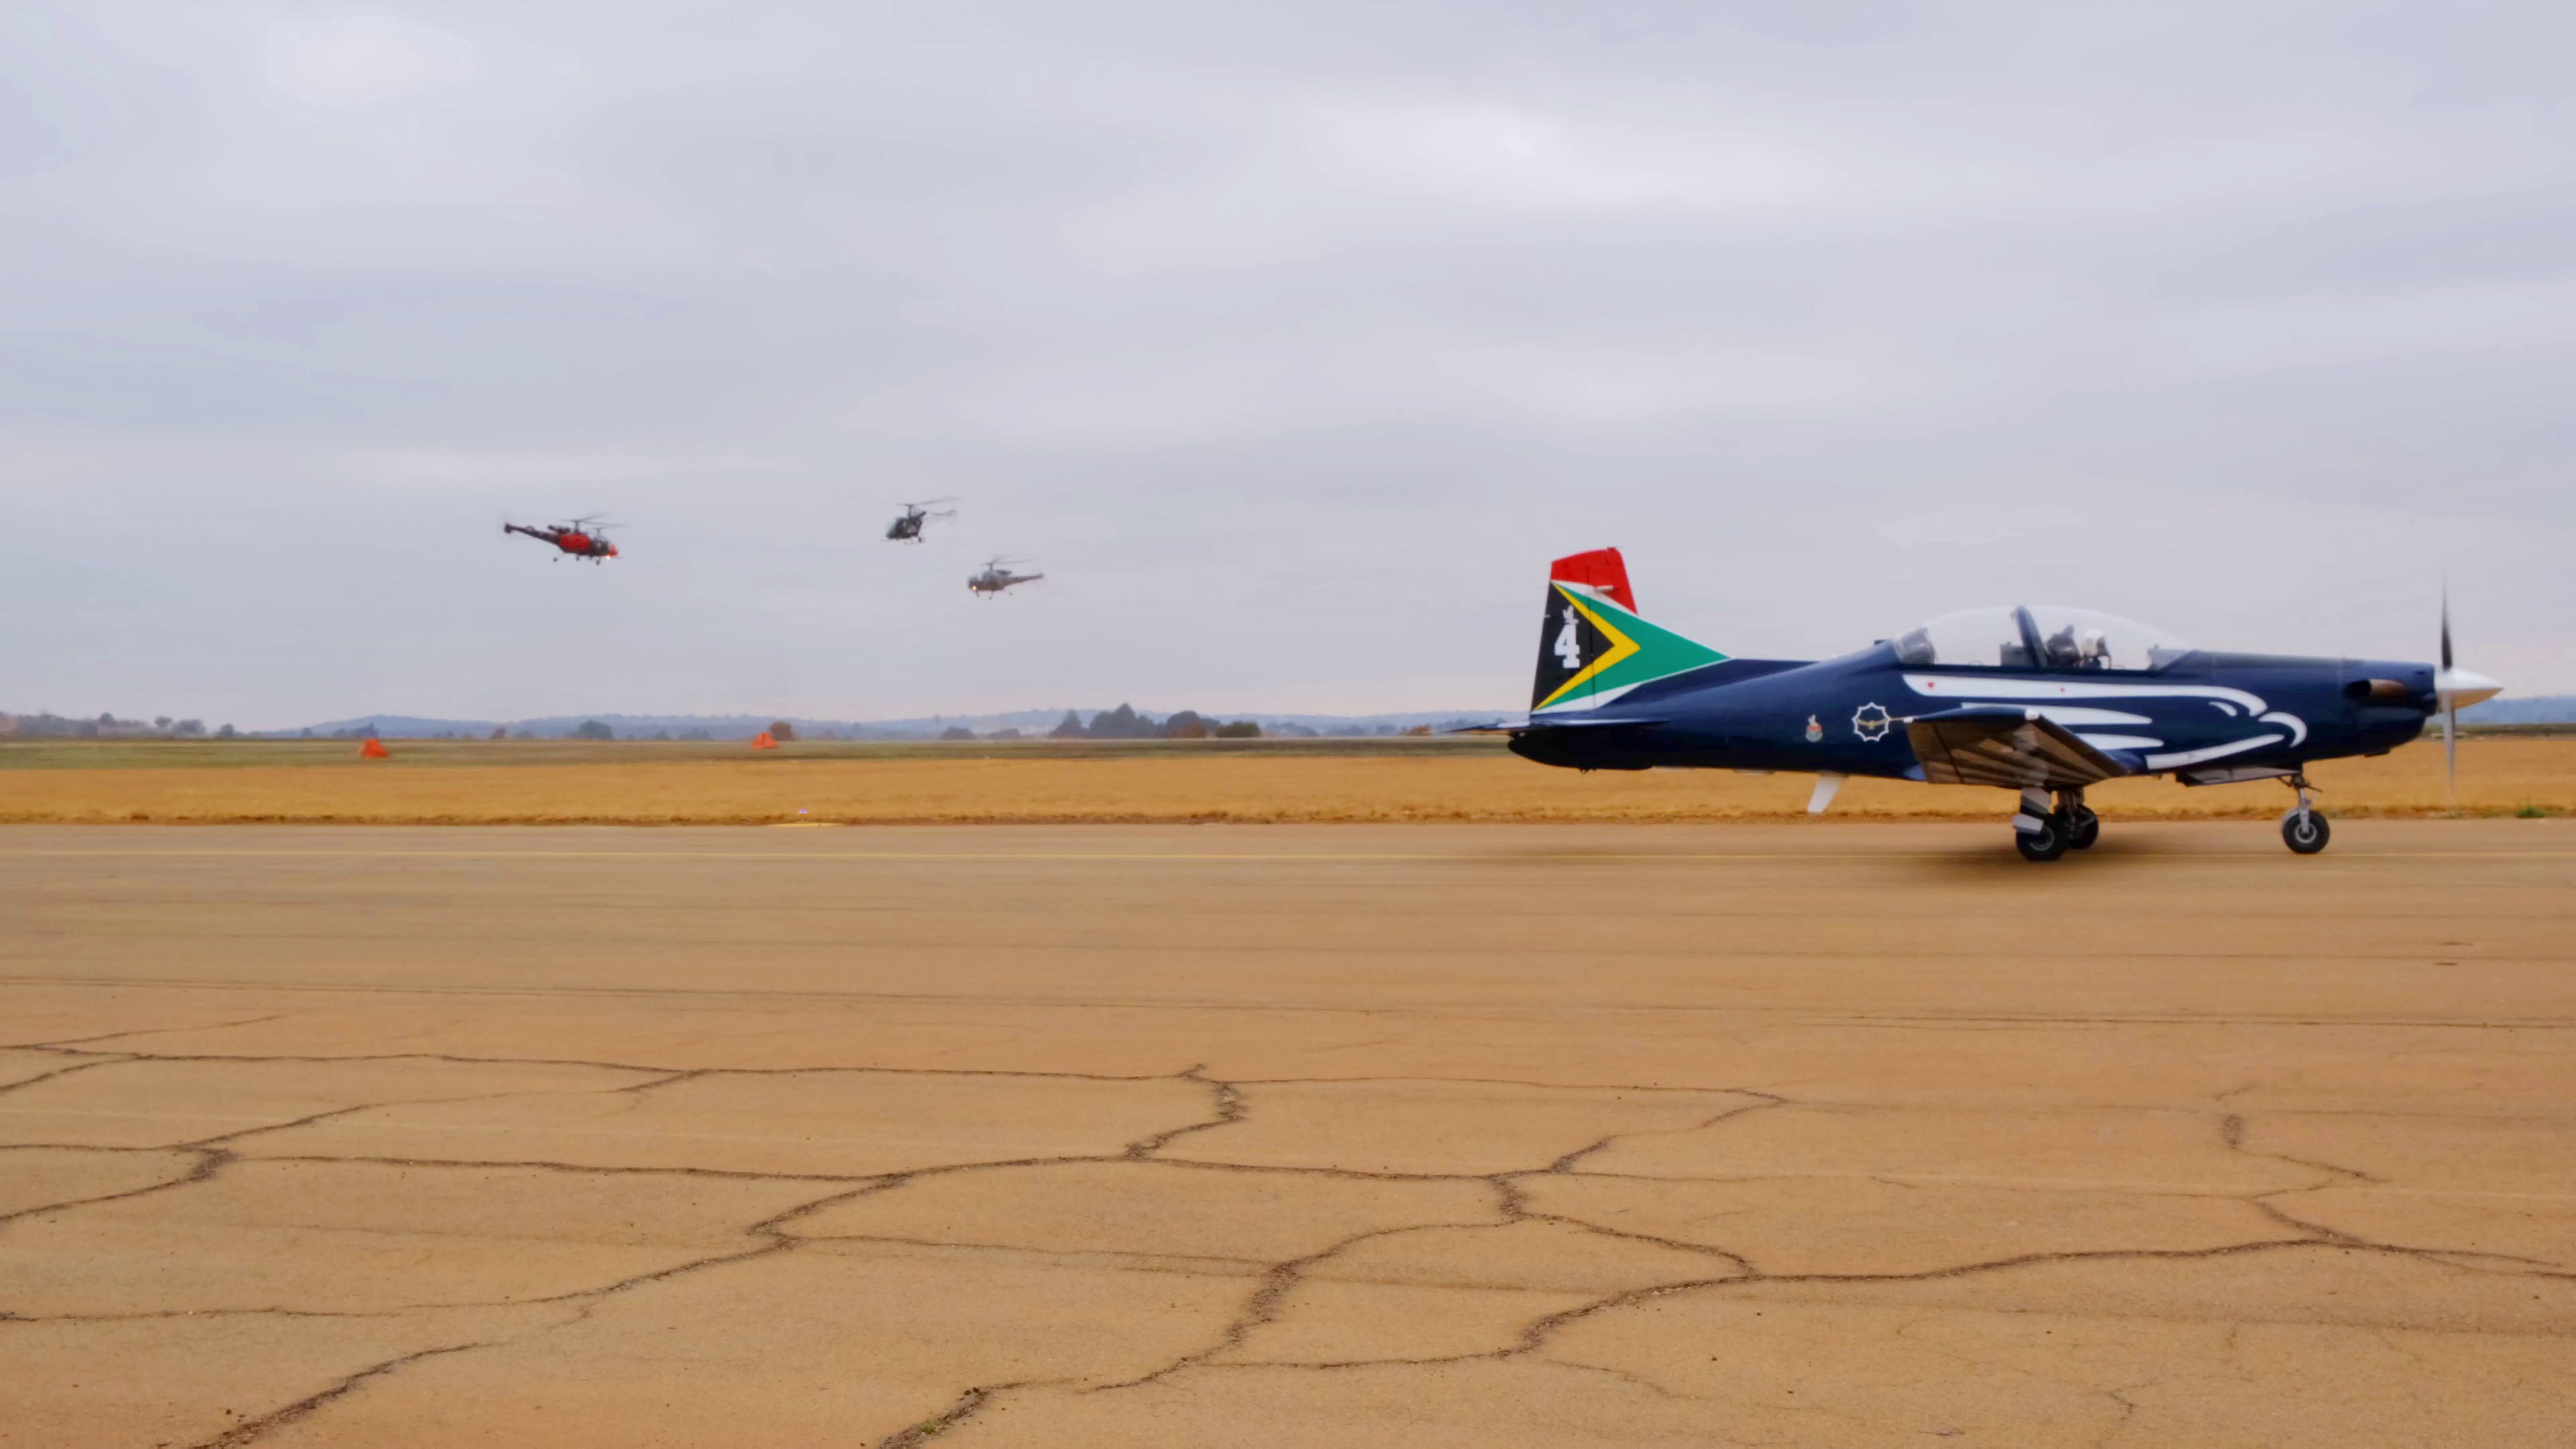heli: (499, 510, 626, 566), (881, 495, 961, 541), (964, 556, 1047, 598)
plane: (1502, 545, 2500, 862)
